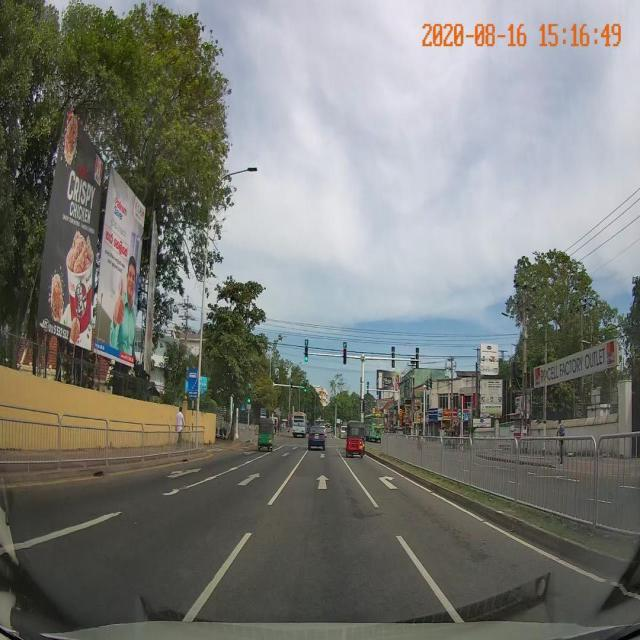Liniya 1: (483, 519, 609, 584), (179, 531, 255, 621), (395, 534, 468, 624), (15, 509, 122, 552), (162, 460, 251, 497), (266, 458, 304, 506), (431, 492, 486, 521), (346, 464, 381, 508), (402, 476, 434, 493)
Strelka vpered: (235, 472, 261, 486), (314, 474, 331, 490)
Strelka vpered - vlevo: (165, 468, 202, 479)
Strelka vpravo: (377, 476, 400, 490)
